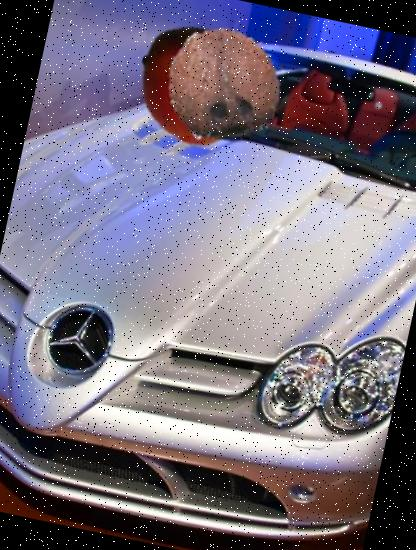Cocos: (149, 13, 296, 160)
Nectarine: (124, 11, 274, 161)
